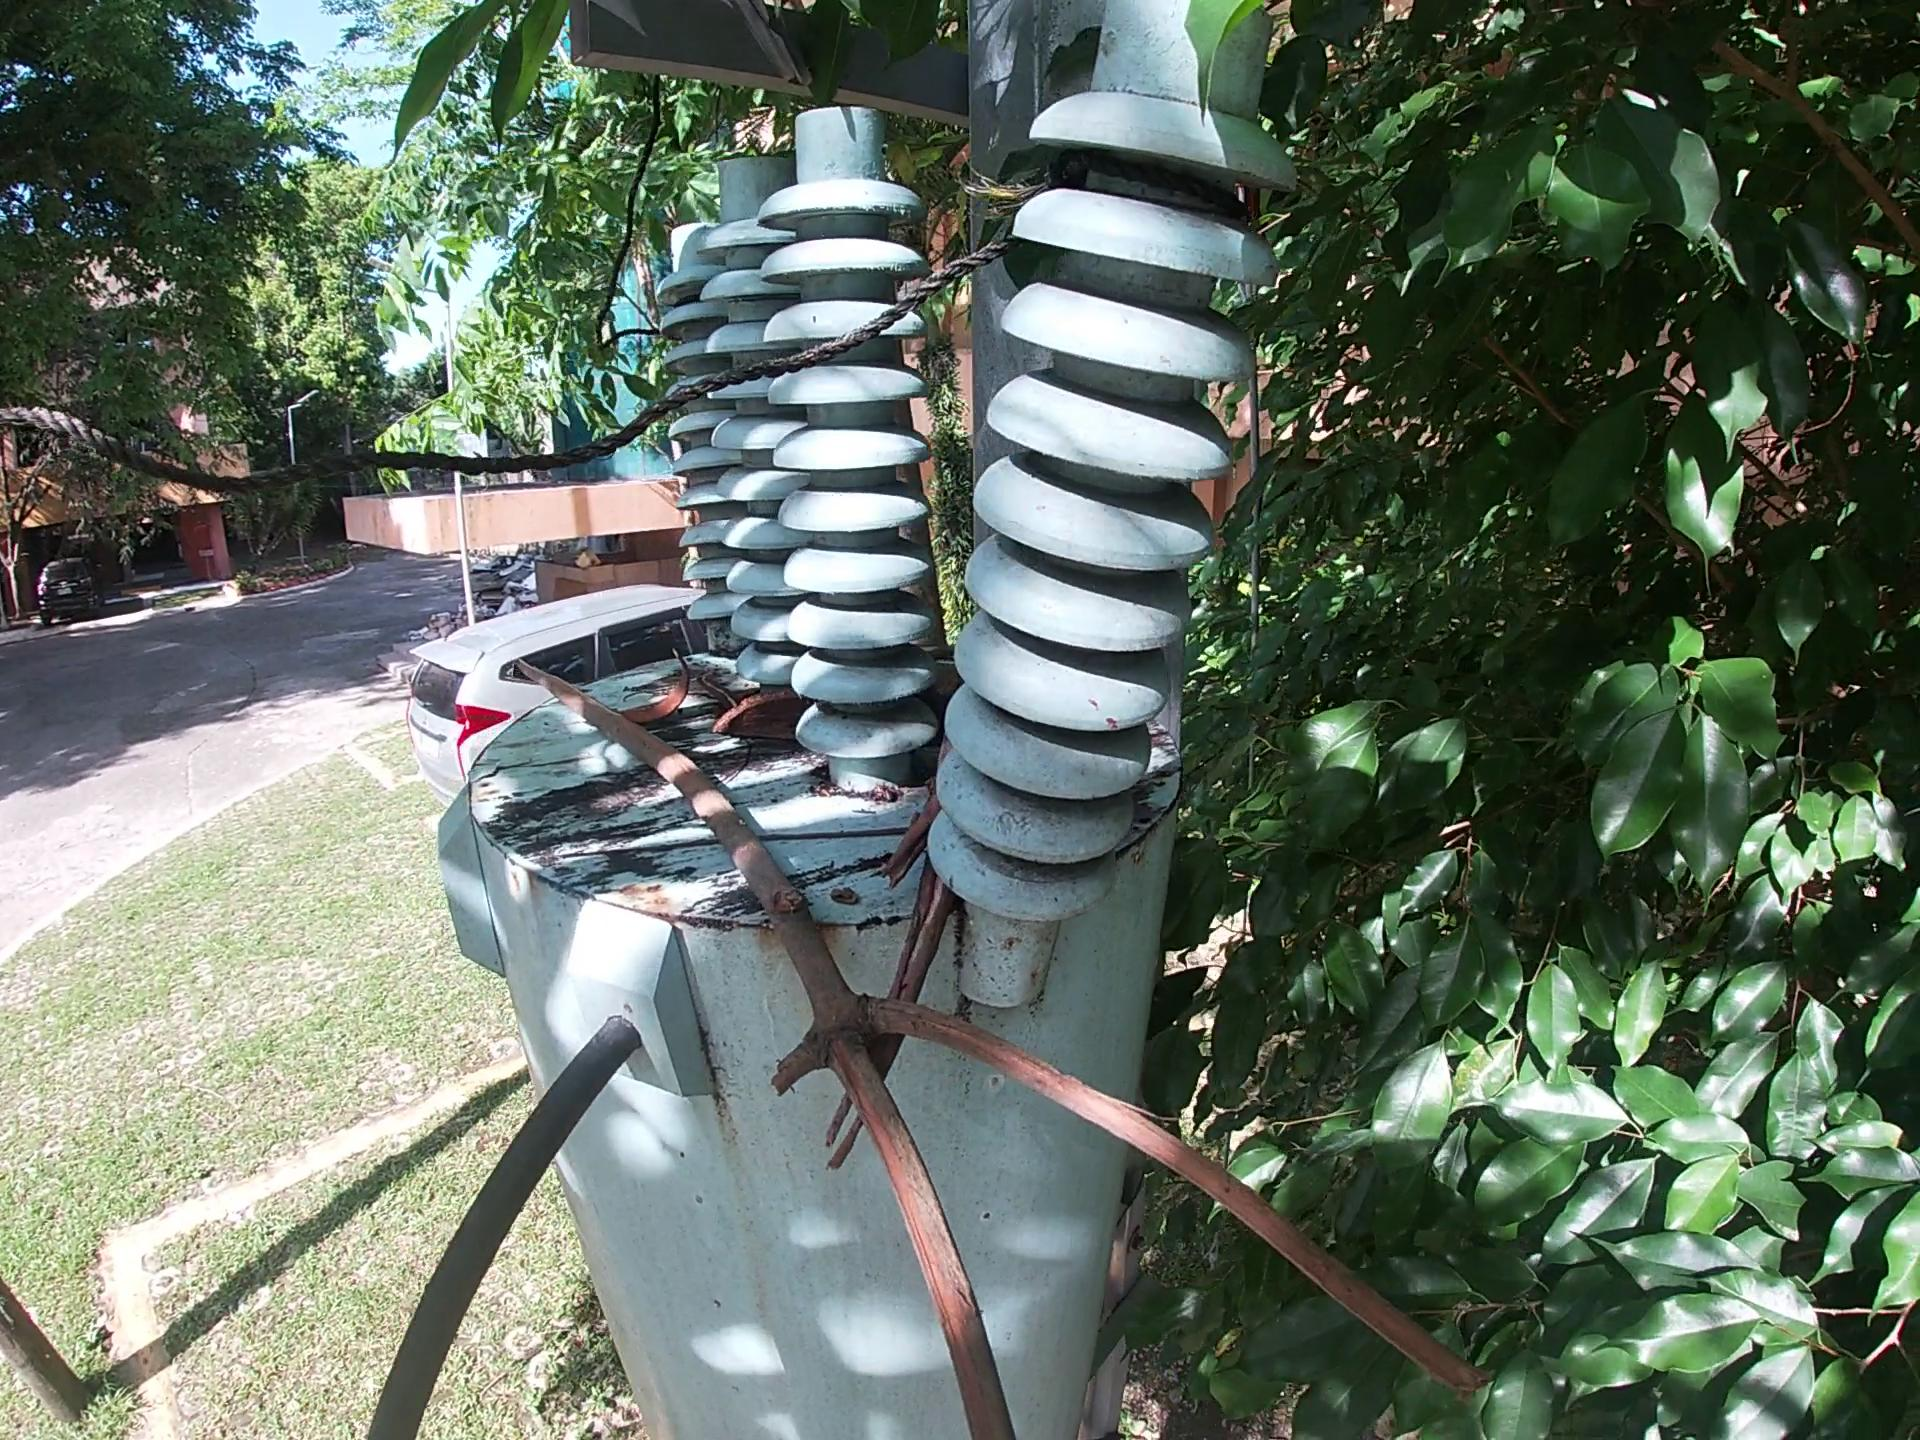mahogany fruit: (609, 644, 705, 731), (705, 684, 818, 746)
tree branch: (500, 653, 1497, 1438), (804, 784, 962, 1187)
